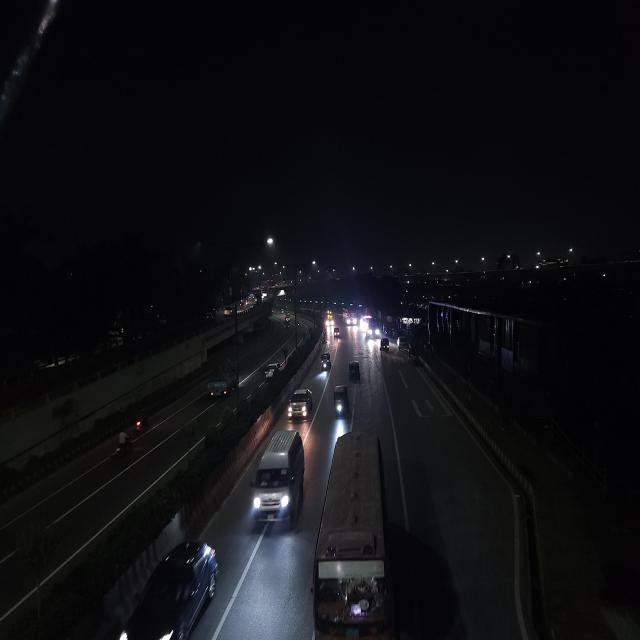bus: (312, 426, 398, 640), (362, 314, 380, 339), (344, 305, 358, 328)
car: (112, 536, 220, 640), (247, 425, 306, 533), (287, 385, 315, 424), (263, 359, 283, 381), (223, 304, 235, 319), (397, 336, 409, 349)
cng: (332, 382, 348, 422), (347, 358, 363, 384), (320, 350, 332, 375), (408, 347, 420, 365), (380, 335, 390, 353), (333, 326, 342, 342)
motorcycle: (113, 428, 135, 456), (132, 403, 151, 434)
pickup_van: (209, 369, 237, 400)
